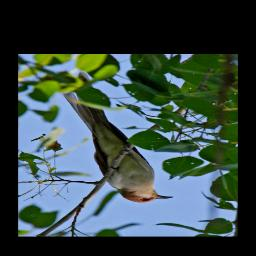Cuckoo: (58, 71, 174, 204)
